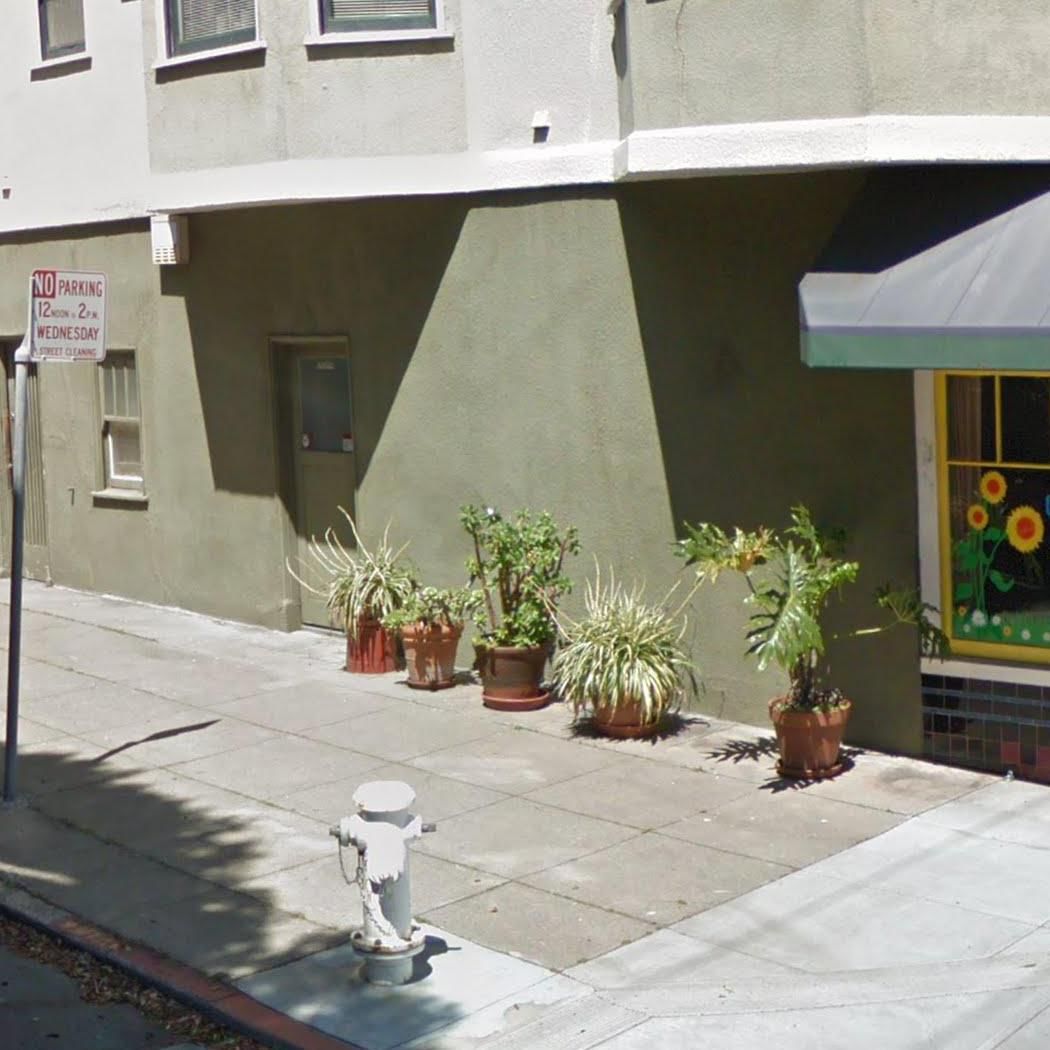No Parking: (20, 265, 113, 368)
